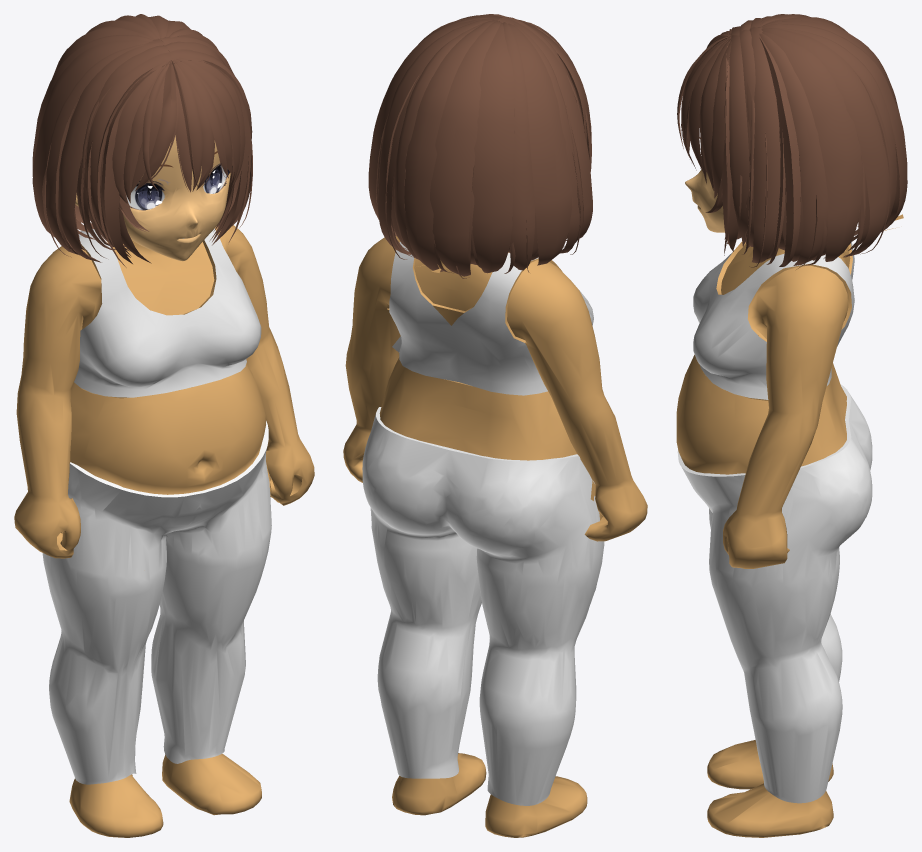
Rendered from Mii female Stage 1 .glb.
The picture shows the model from 3 angles, left to right: view 1: azimuth 30°, elevation 25°; view 2: azimuth 150°, elevation 25°; view 3: azimuth 270°, elevation 25°; orthographic projection.
Parts seen in each view (by area): view 1: mesh_rep_0_ori_repair_quad.obj.012; view 2: mesh_rep_0_ori_repair_quad.obj.012; view 3: mesh_rep_0_ori_repair_quad.obj.012.
Part boxes in pixels (<box>): mesh_rep_0_ori_repair_quad.obj.012: <box>14,14,314,837</box>; mesh_rep_0_ori_repair_quad.obj.012: <box>343,14,647,837</box>; mesh_rep_0_ori_repair_quad.obj.012: <box>676,14,907,837</box>.
Bounding box in the file's own units: 0.7324 × 1.9 × 0.5135.
14 materials, 7 textured.
